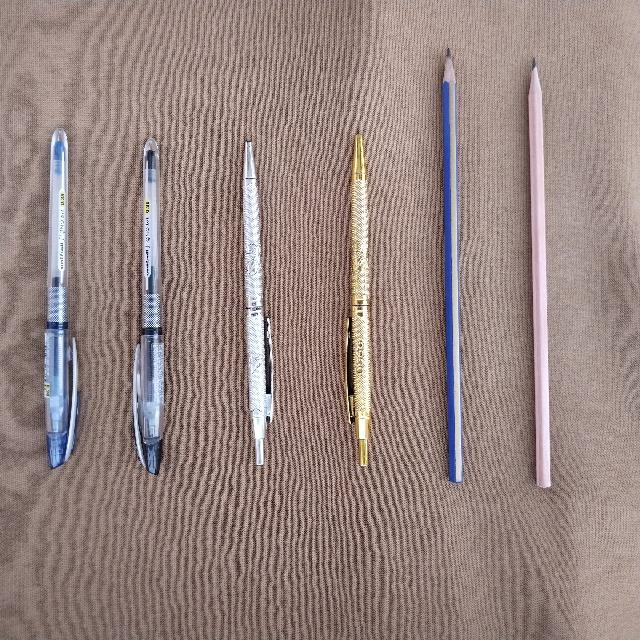pen: (44, 128, 77, 467), (133, 138, 163, 474)
pencil: (528, 59, 550, 487), (442, 49, 462, 483)
signature pen: (243, 141, 272, 464), (345, 135, 370, 465)
